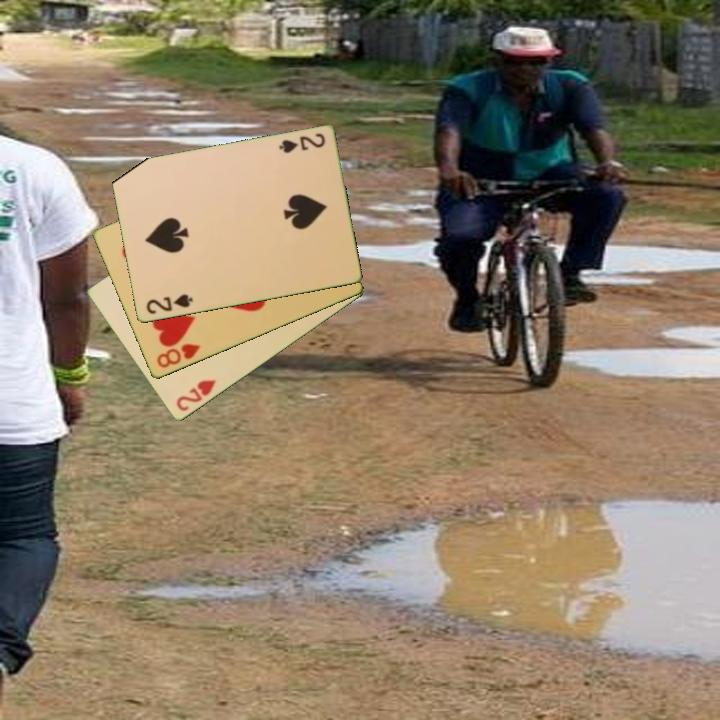2h: (172, 376, 219, 415)
2s: (143, 291, 196, 317), (275, 130, 328, 156)
8h: (153, 340, 203, 371)
